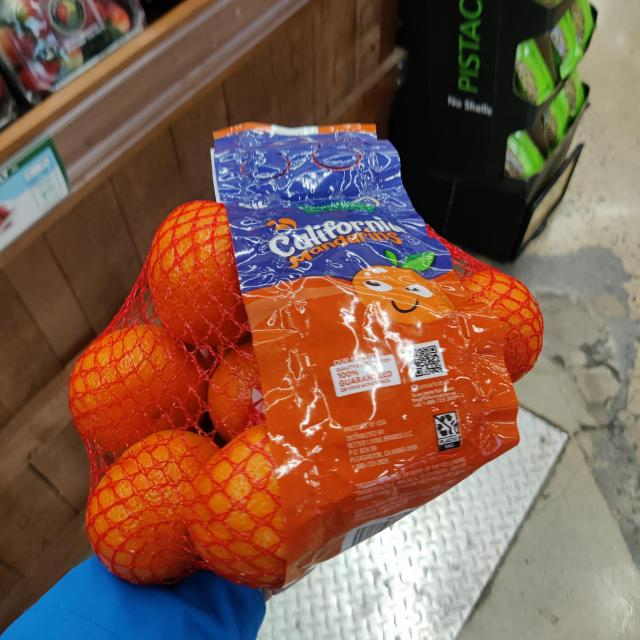Orange: (73, 121, 542, 586)
Strawberry: (0, 0, 150, 107)
